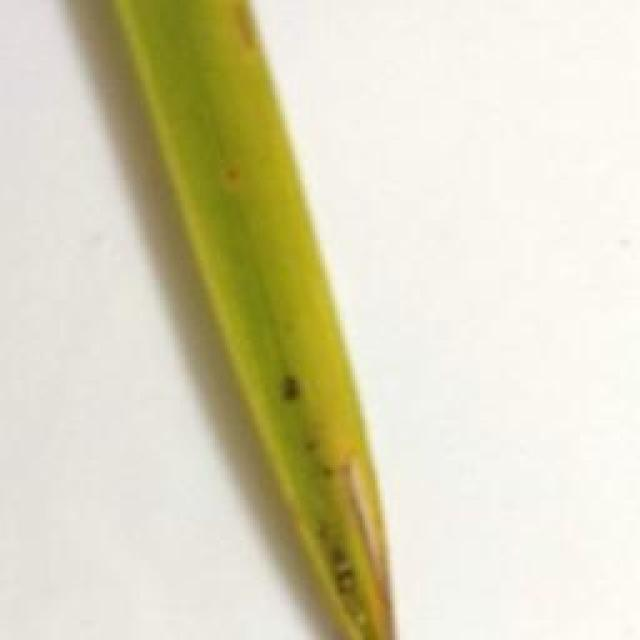Bacterial_Blight: (338, 454, 400, 600)
Brown_Spot: (311, 524, 365, 601), (222, 0, 269, 58), (275, 368, 310, 409), (222, 158, 243, 190)
